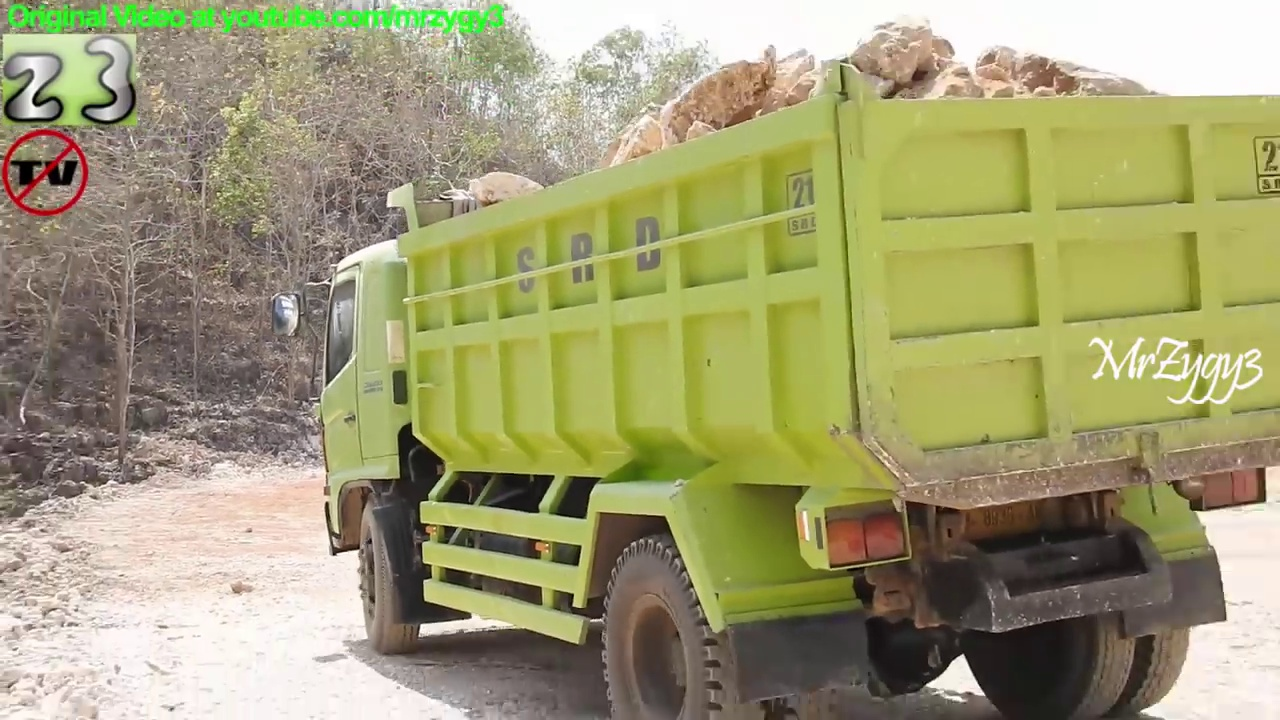truck: (261, 48, 1280, 720)
